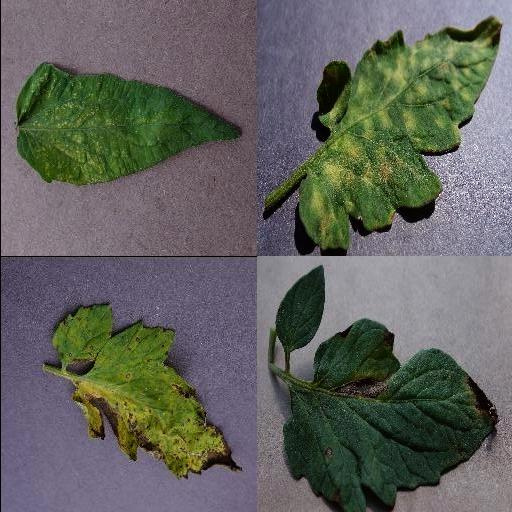Early Blight: (283, 320, 499, 512)
Leaf Mold: (295, 17, 503, 252)
Septoria: (50, 303, 240, 479)
Spider Mites: (15, 63, 241, 187)
